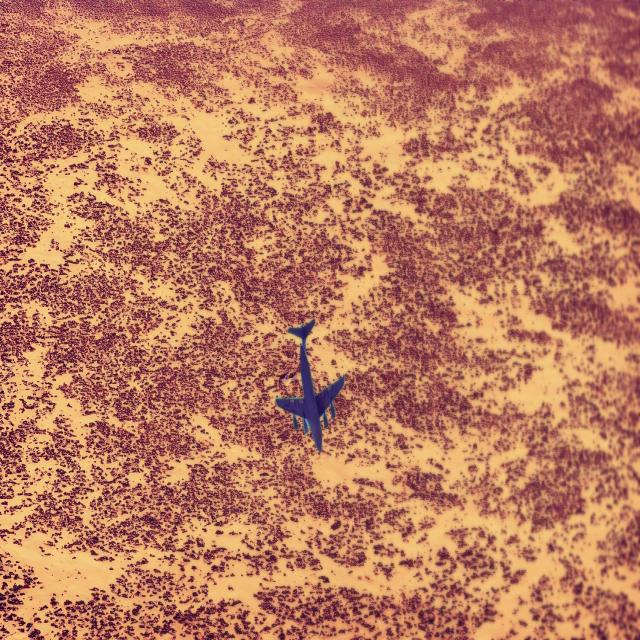airplane: (275, 318, 345, 452)
